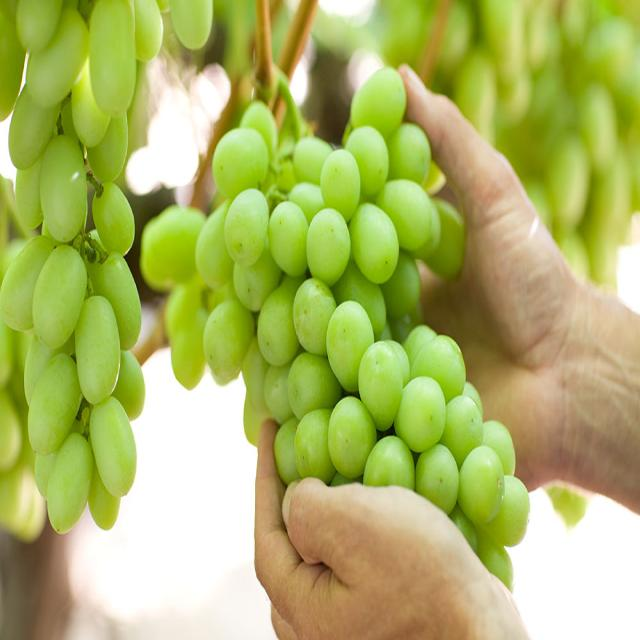Grapes: (136, 36, 574, 582), (0, 0, 198, 584)
